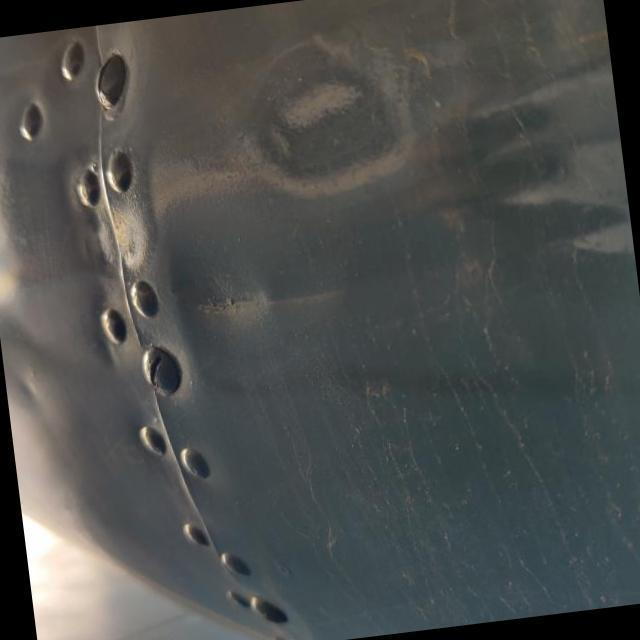Dent: (203, 6, 450, 234), (168, 249, 298, 359)
